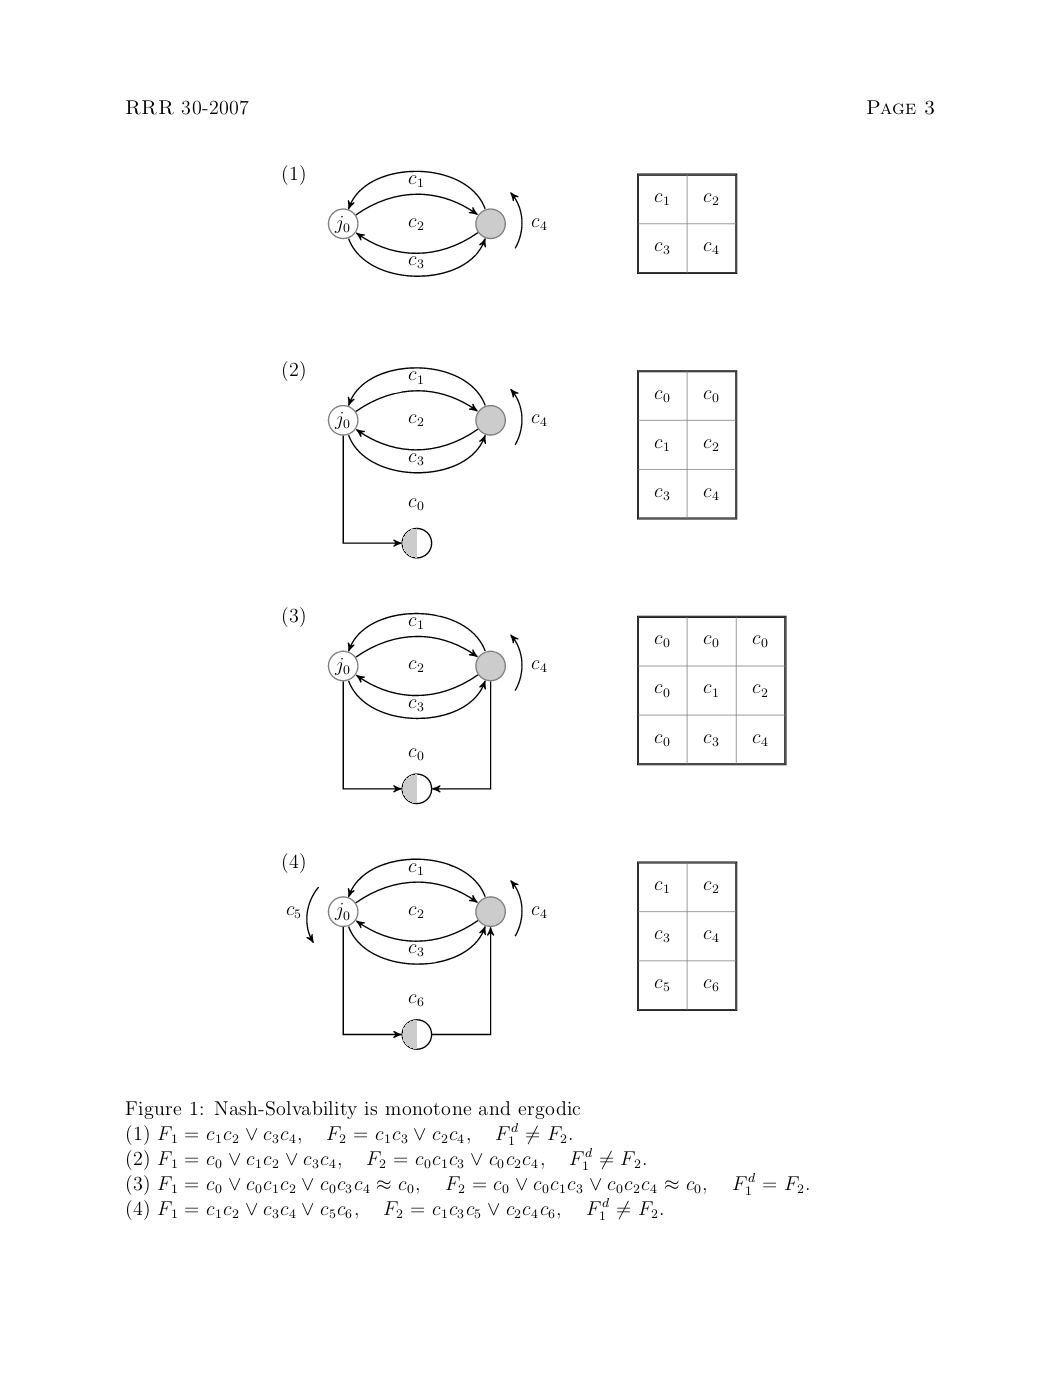figure: (283, 853, 546, 1049), (327, 366, 546, 559), (327, 611, 546, 805), (327, 169, 546, 277), (637, 614, 786, 766), (637, 369, 737, 520), (637, 861, 737, 1010), (637, 172, 737, 274)
formula: (127, 1174, 808, 1194), (127, 1198, 662, 1219), (127, 1148, 645, 1169), (127, 1123, 571, 1145)
